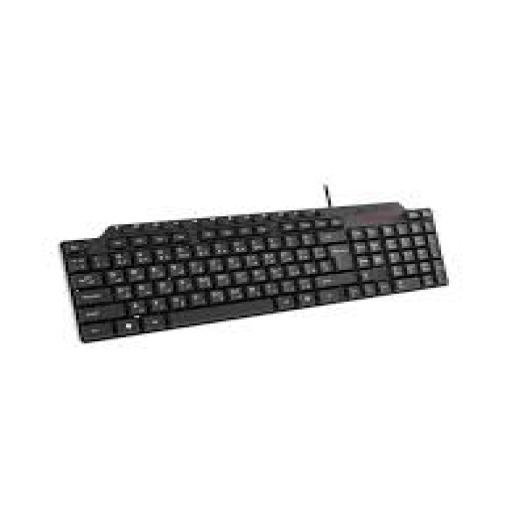KEYBOARD-2: (60, 202, 444, 341)
